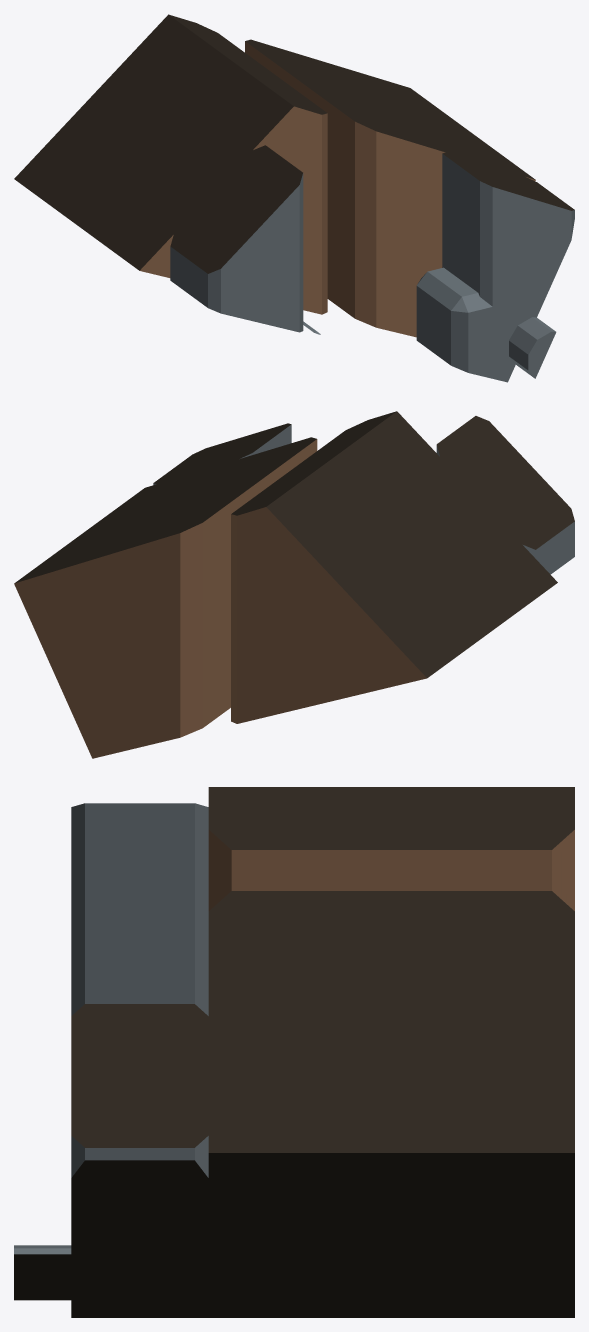
File: SM_DoorShard_01_07.fbx
3 renders of one model, top to bottom at view 1: azimuth 30°, elevation 25°; view 2: azimuth 150°, elevation 25°; view 3: azimuth 270°, elevation 25°, orthographic. The views are drawn at different scales.
Visible parts, largest first — view 1: SM_DoorShard_01_07; view 2: SM_DoorShard_01_07; view 3: SM_DoorShard_01_07.
Part boxes in pixels (left/top/right/bottom): SM_DoorShard_01_07: left=14, top=14, right=574, bottom=382; SM_DoorShard_01_07: left=14, top=411, right=574, bottom=758; SM_DoorShard_01_07: left=14, top=787, right=574, bottom=1317.
Size of the model in its own units: 29.18 by 24.5 by 19.86.
